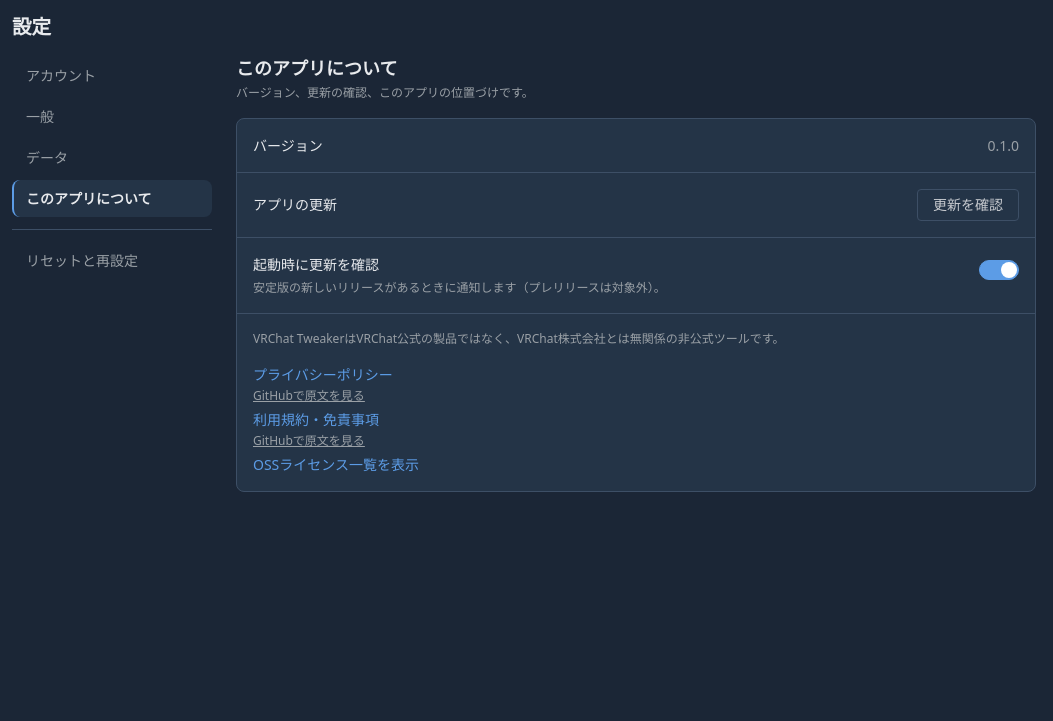
SettingsView › shows a failed update check under the button without asking the card to scroll sideways
Click the button with test id "settings-check-app-update" at (968, 205), box [917, 189, 1019, 221]
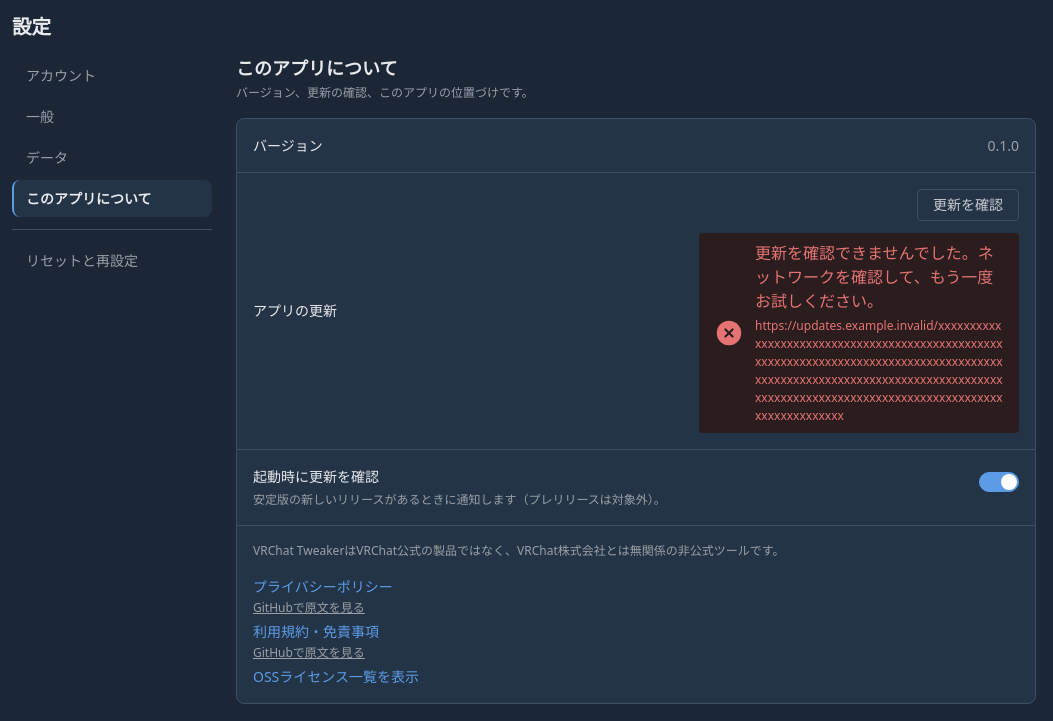
Expected: the element with class "settings-update-actions" is shown, [699, 189, 1019, 433]
Expected: the element with test id "settings-app-update-error" shows "更新を確認できませんでした", [755, 242, 994, 312]
Expected: the element with test id "settings-app-update-error" shows "ネットワークを確認して", [755, 242, 994, 312]
